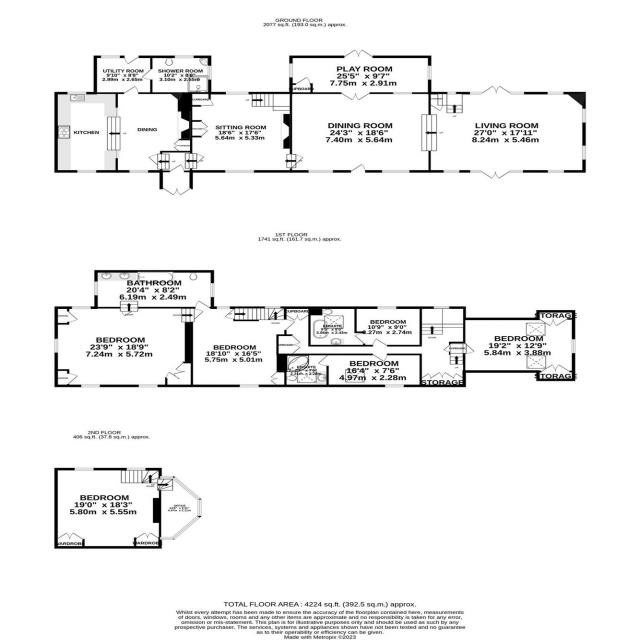DOOR: (289, 154, 304, 169), (350, 163, 366, 173), (124, 55, 139, 65), (372, 338, 388, 347), (317, 355, 329, 367), (372, 353, 388, 362), (284, 319, 296, 331), (169, 163, 185, 172), (141, 68, 153, 80), (123, 85, 139, 94), (195, 300, 210, 309), (354, 333, 366, 344), (194, 308, 204, 320), (148, 154, 158, 165), (196, 154, 205, 164)
DOUBLE DOOR: (482, 85, 511, 95), (343, 49, 374, 58), (162, 187, 192, 196), (481, 170, 510, 179)
FOLDING DOOR: (340, 92, 370, 101)
ROOM: (421, 85, 587, 180), (289, 92, 437, 173), (54, 306, 195, 388), (184, 299, 296, 388), (462, 310, 576, 382), (289, 49, 432, 101), (317, 353, 422, 387), (354, 306, 422, 347)
WINDOW: (160, 476, 202, 540), (225, 91, 249, 95), (224, 170, 254, 173), (381, 170, 410, 173), (128, 170, 149, 174), (126, 467, 146, 471), (74, 467, 94, 471), (377, 306, 397, 310), (138, 384, 158, 388), (174, 55, 194, 59), (81, 384, 100, 388), (571, 339, 576, 354), (54, 338, 59, 353), (210, 283, 215, 298), (94, 281, 99, 296), (582, 108, 587, 123), (581, 145, 586, 160), (427, 65, 432, 80), (308, 170, 333, 173), (207, 66, 212, 80), (547, 91, 564, 95), (384, 384, 404, 387), (71, 306, 91, 309), (239, 384, 259, 387), (289, 63, 293, 78), (100, 55, 120, 58), (77, 170, 97, 173), (67, 92, 87, 95), (510, 91, 524, 95), (469, 91, 482, 95), (433, 306, 450, 309), (547, 170, 564, 173), (443, 170, 460, 173), (216, 306, 230, 309), (392, 92, 412, 94), (447, 91, 456, 95), (470, 170, 482, 173)
